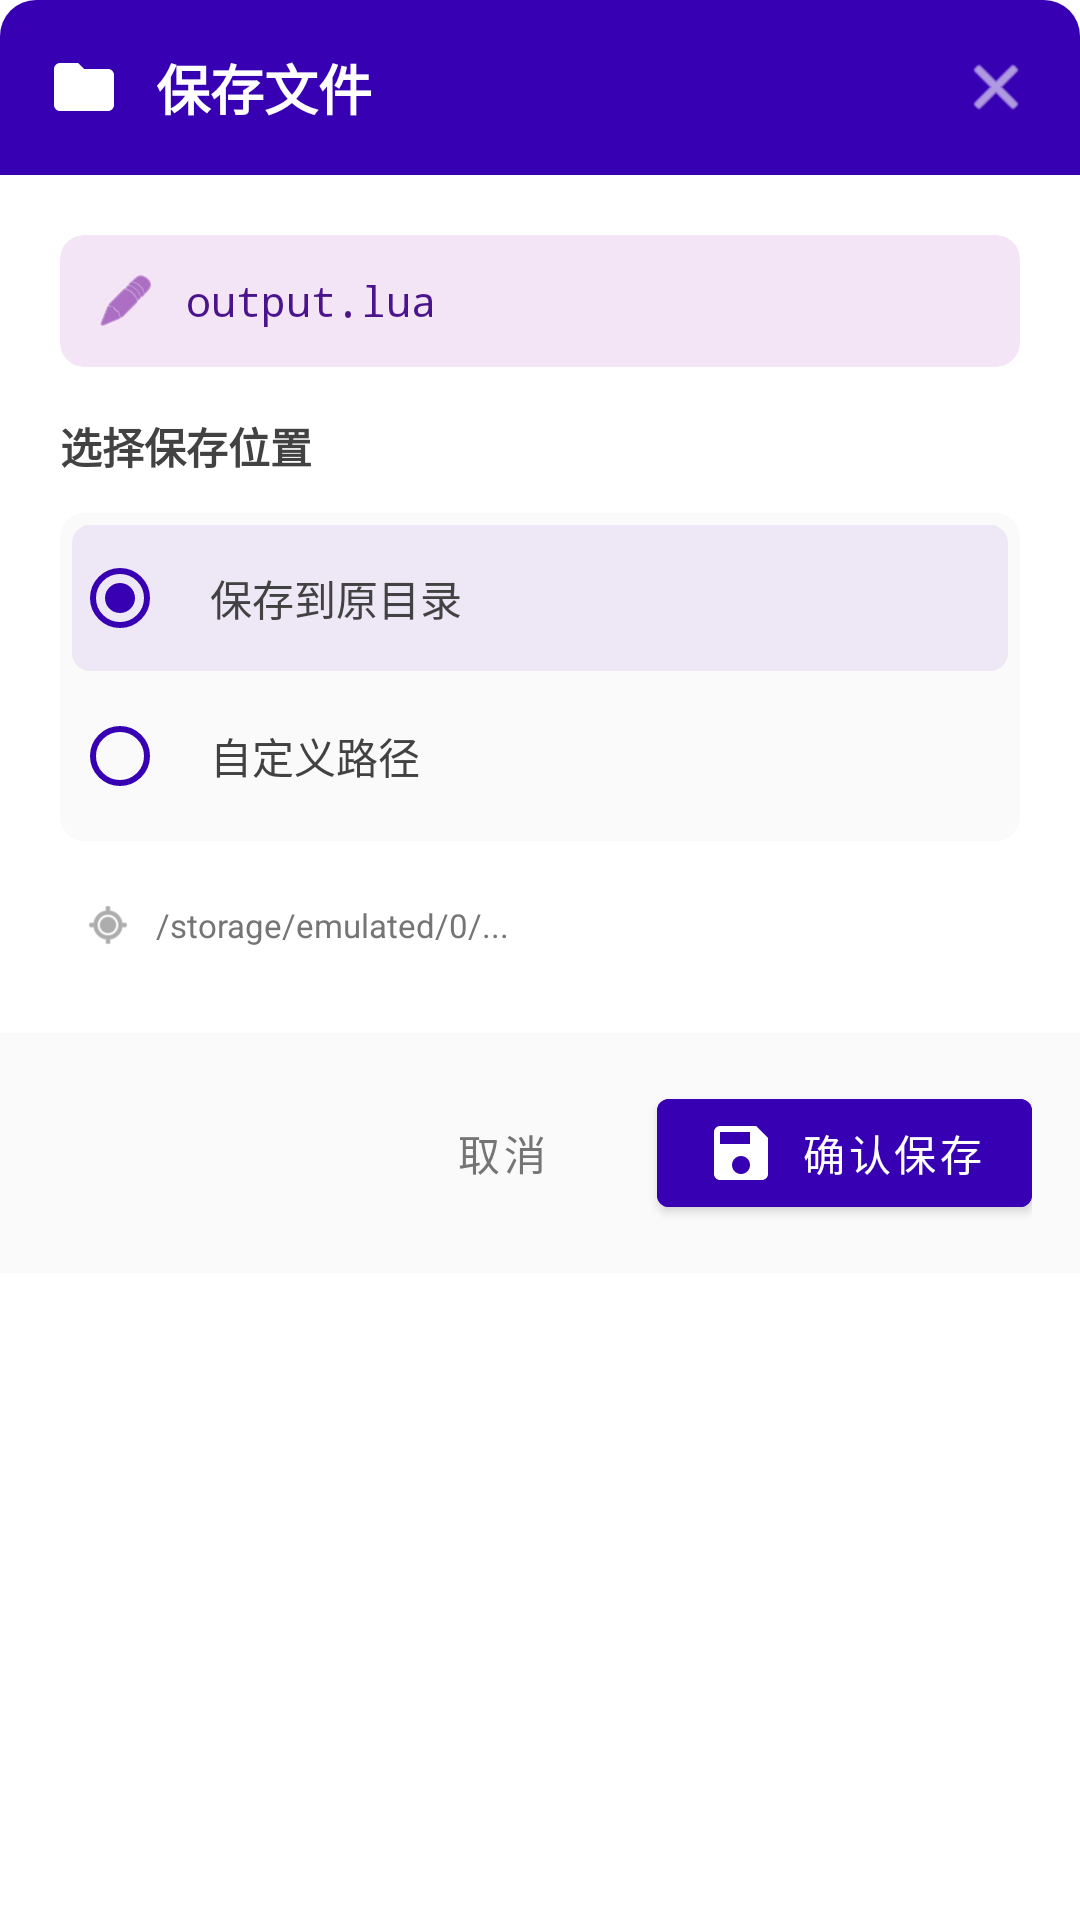

Point at icon controls on the screen. Image size 1080×1920, points as point (x, y).
close clear cancel: point (996, 87)
edit: point (125, 300)
folder: point (84, 87)
mylocation: point (108, 925)
